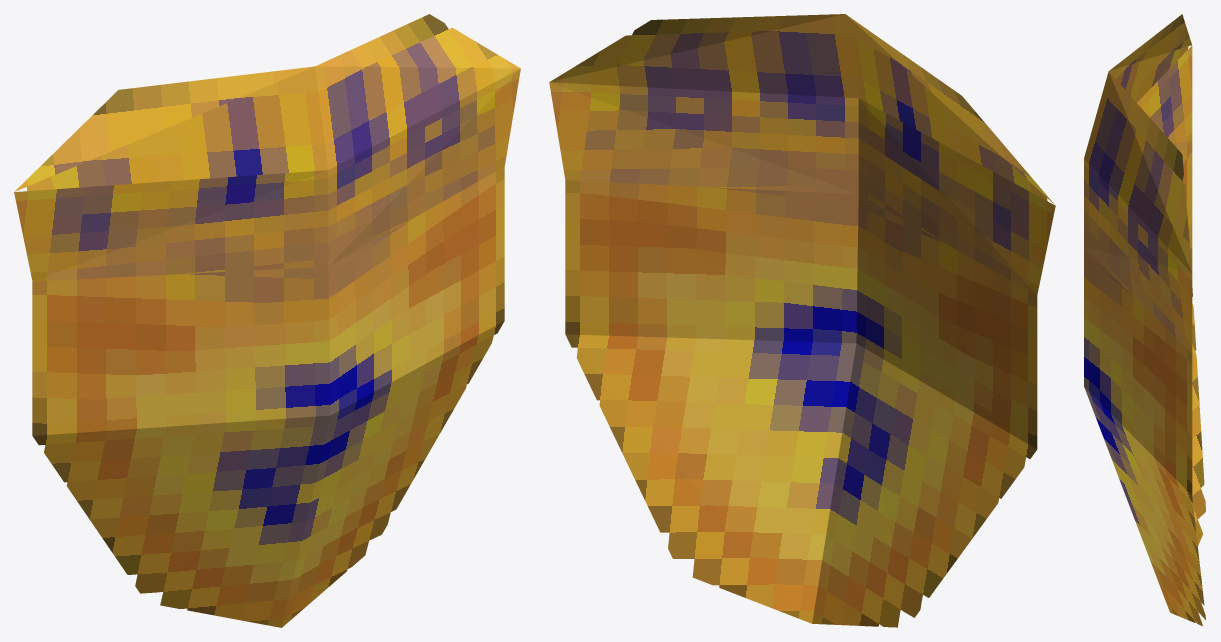
3 renders of one model, left to right at view 1: azimuth 30°, elevation 25°; view 2: azimuth 150°, elevation 25°; view 3: azimuth 270°, elevation 25°, orthographic. The views are drawn at different scales.
Parts seen in each view (by area): view 1: Mp_obj_026; view 2: Mp_obj_026; view 3: Mp_obj_026.
Part boxes in pixels (x1,y1,x2,y2): Mp_obj_026: [14, 14, 520, 627]; Mp_obj_026: [549, 14, 1055, 627]; Mp_obj_026: [1084, 14, 1205, 625].
Size of the model in its own units: 0.4297 by 0.4746 by 0.0977.
Materials: 1 (1 with a texture image).
